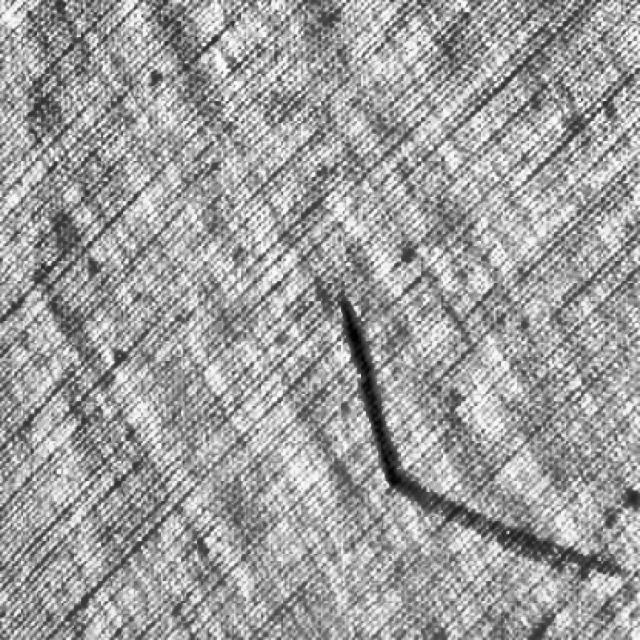oil_spot: (399, 475, 635, 593), (331, 286, 398, 488)
